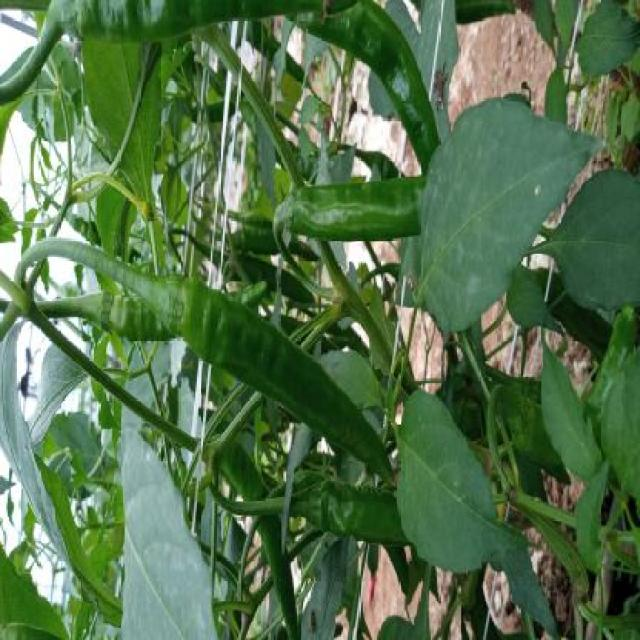green chilli: (163, 274, 397, 486)
